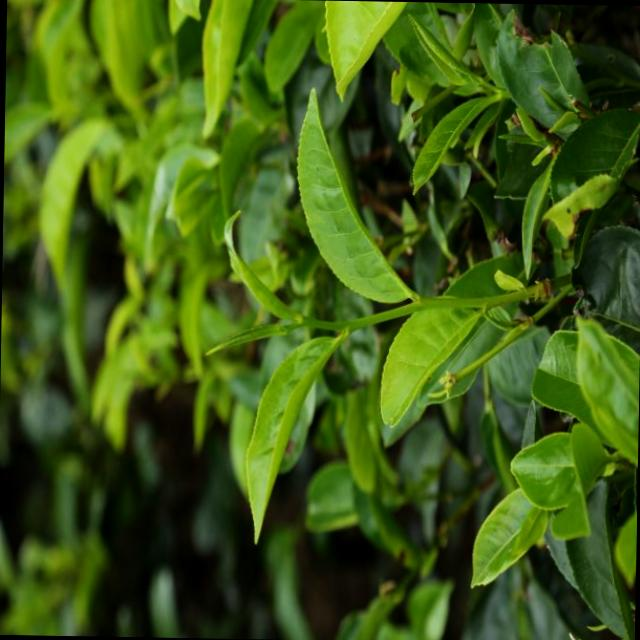Stem: (344, 313, 377, 333)
